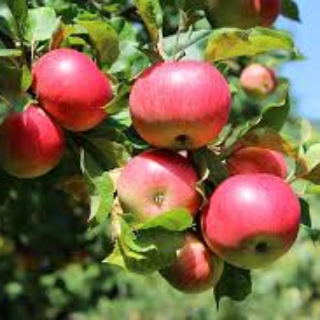tao: (200, 170, 306, 271), (128, 56, 234, 153), (28, 44, 116, 133)
